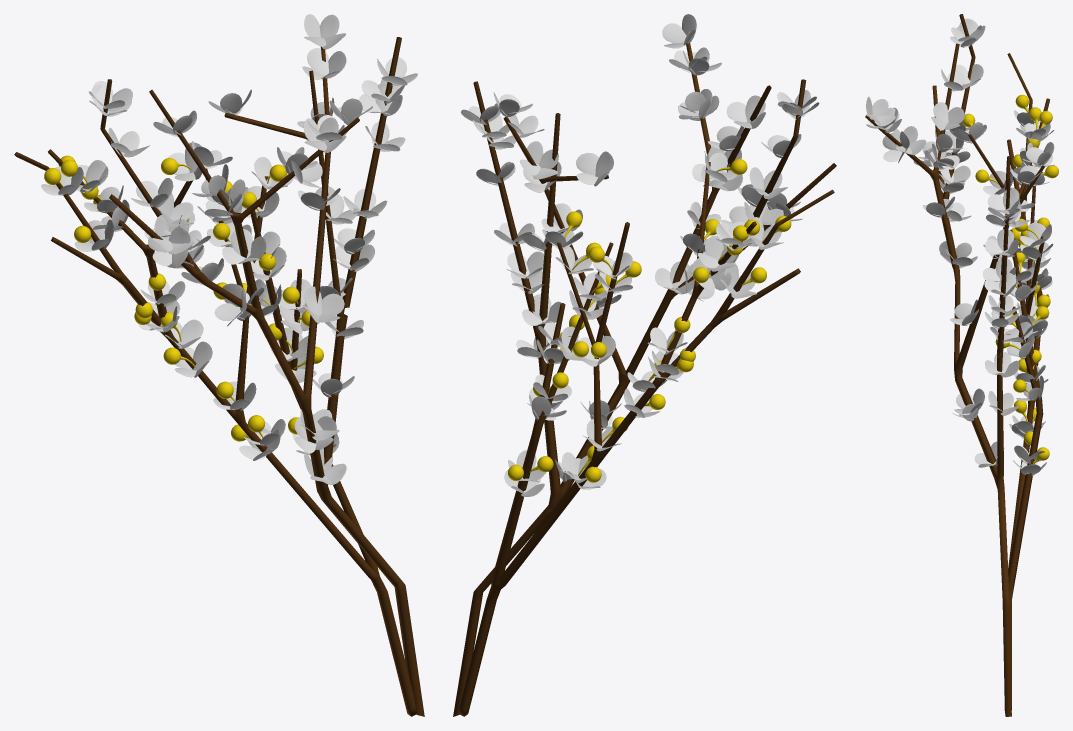
File: Camomilla.fbx
3 renders of one model, left to right at view 1: azimuth 30°, elevation 25°; view 2: azimuth 150°, elevation 25°; view 3: azimuth 270°, elevation 25°, orthographic. The views are drawn at different scales.
Parts seen in each view (by area): view 1: Plane.001; view 2: Plane.001; view 3: Plane.001.
Part boxes in pixels (bbox=[...]): Plane.001: bbox=[14, 14, 424, 716]; Plane.001: bbox=[453, 14, 836, 716]; Plane.001: bbox=[865, 14, 1058, 716].
Size of the model in its own units: 10.73 by 18.67 by 5.72.
